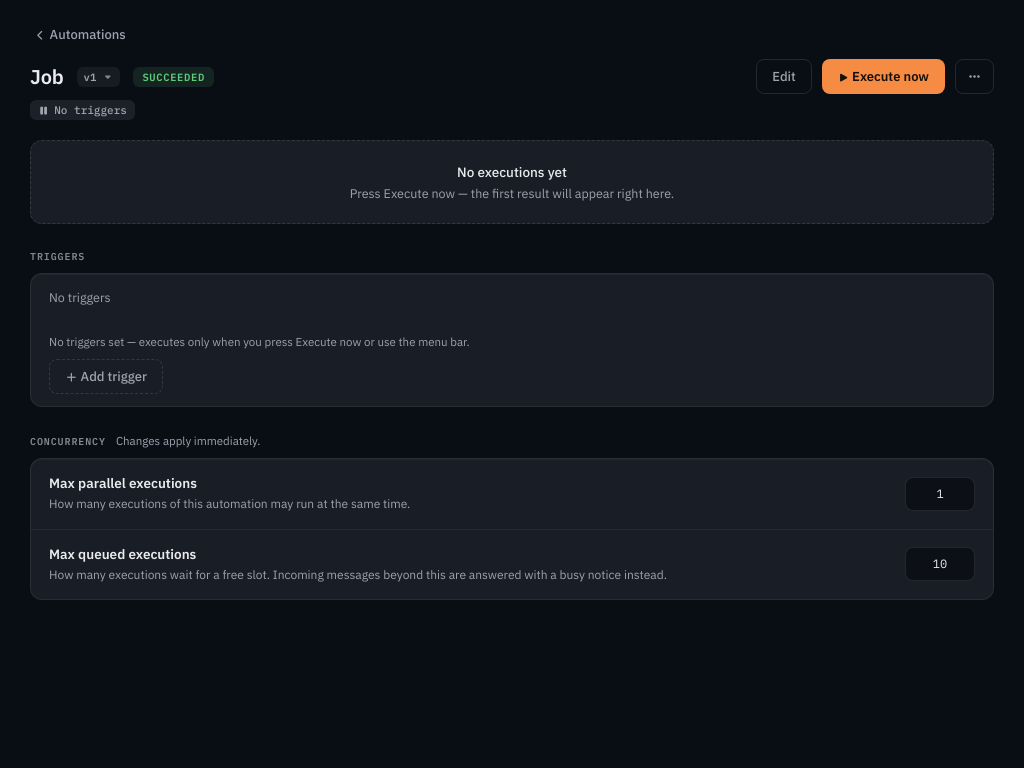
Scenario: §9.2 actions menu › the Export… row is always there and opens the export modal
This screenshot has width=1024, height=768.
expect the text "Export…" is not shown: met
Step 1. Click the button named "Automation actions" → (974, 76), box [955, 59, 994, 94]
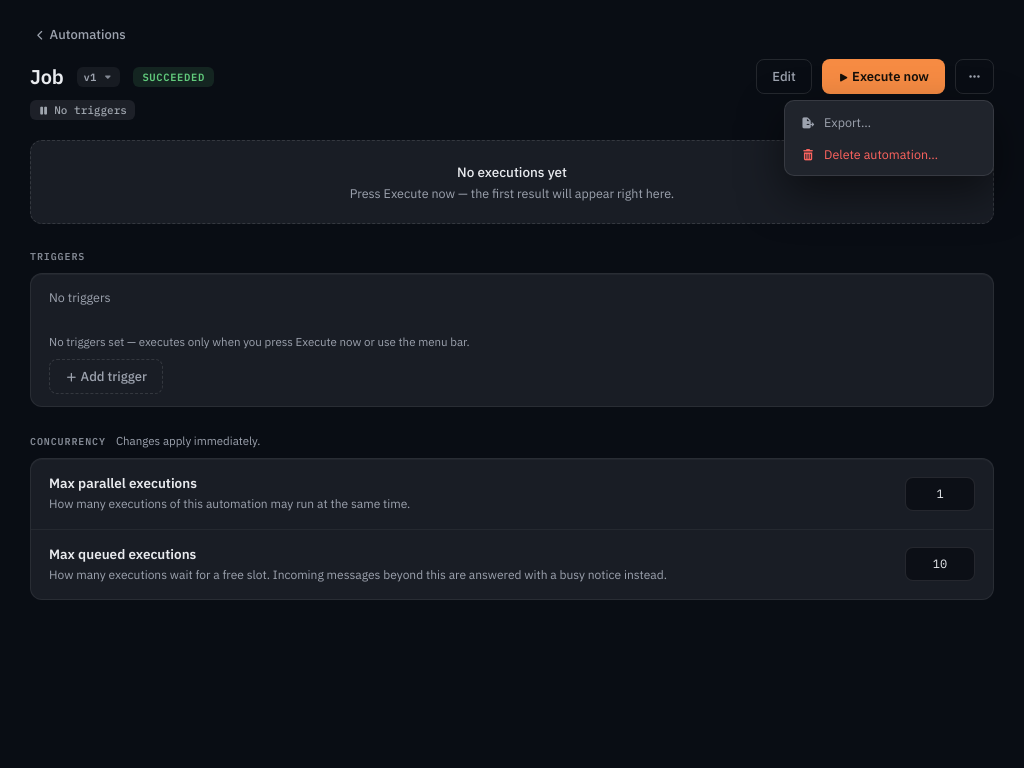
expect the button "Export…" is shown: met
expect the button "Delete automation…" is shown: met, box [790, 138, 988, 170]
Step 2. Click the button "Export…" → (889, 122), box [790, 106, 988, 138]
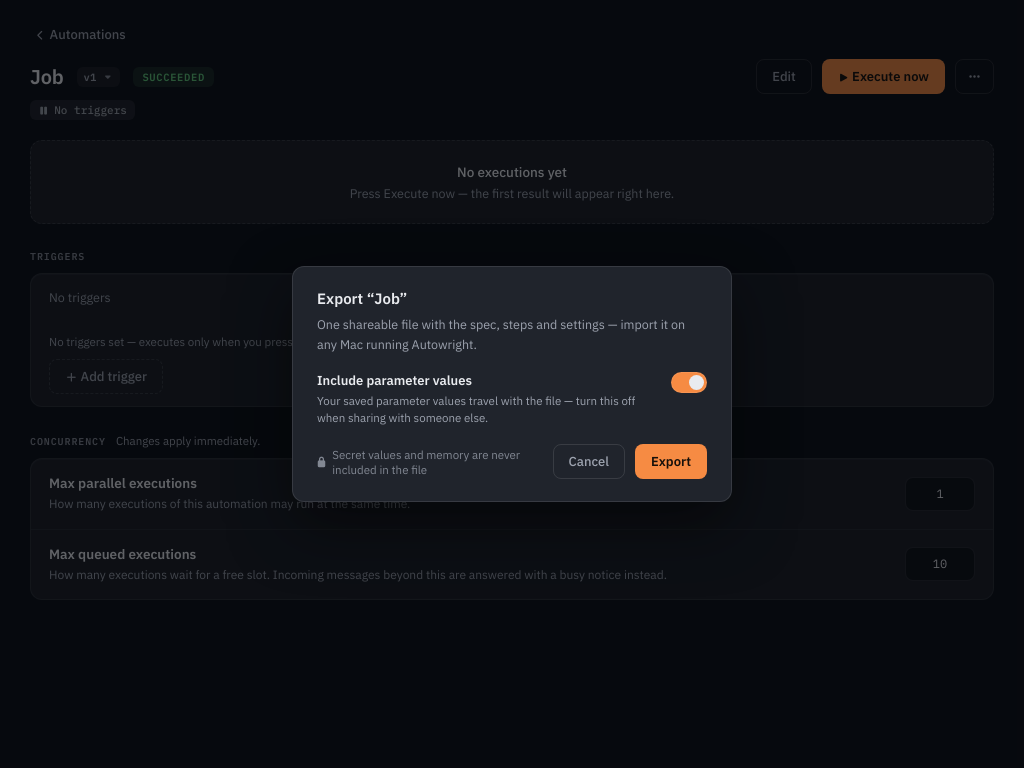
expect the heading "Export “Job”" is shown: met, box [317, 289, 407, 308]
expect the text "Include parameter values" is shown: met, box [317, 372, 472, 389]
